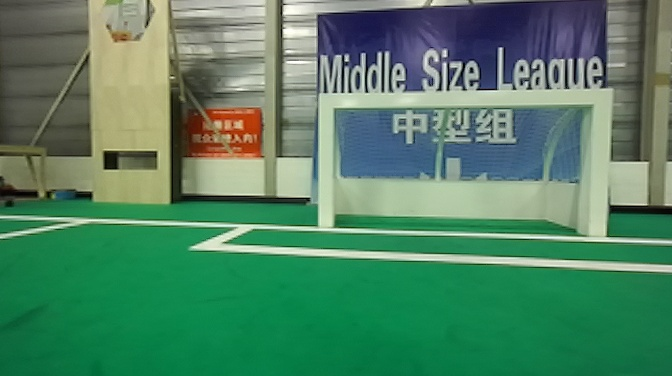goalpost: (304, 83, 342, 234), (580, 78, 611, 241)
